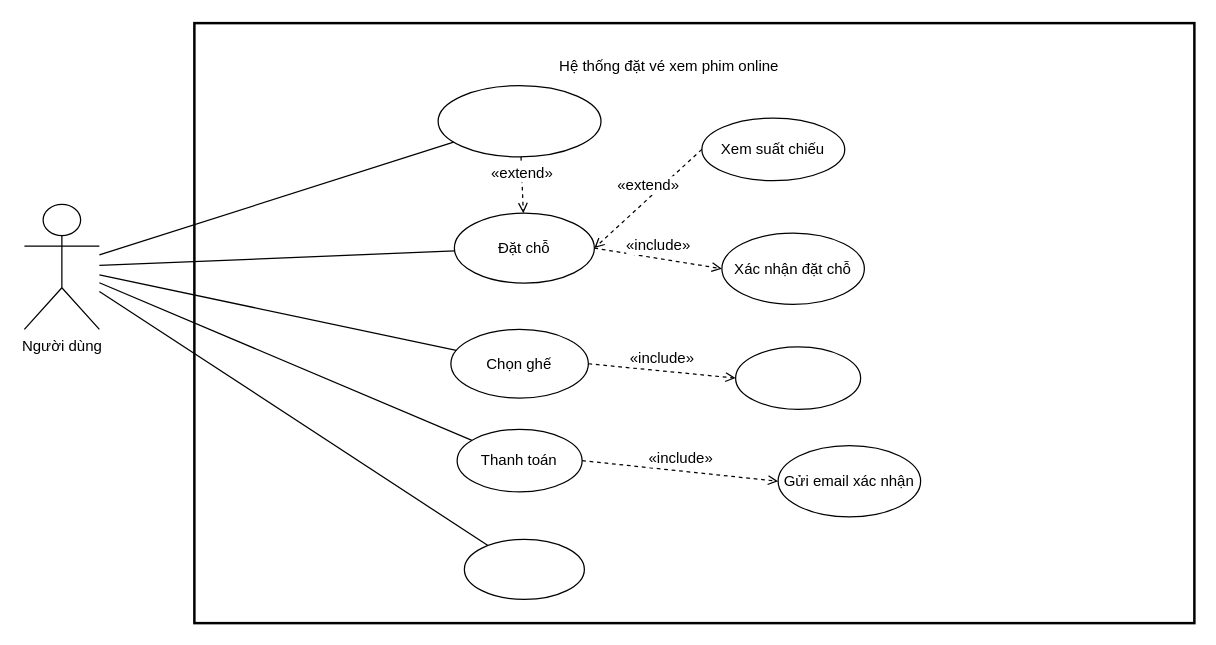
Image size: 1216x645. Some labels were removed from this diagram. Here are the shapes that lost their labels. From the top down, the centre of each, then its label:
At (x=519, y=120): "Xem danh sách phim".
At (x=797, y=377): "Kiểm tra ghế trống".
At (x=523, y=568): "Hủy vé".
